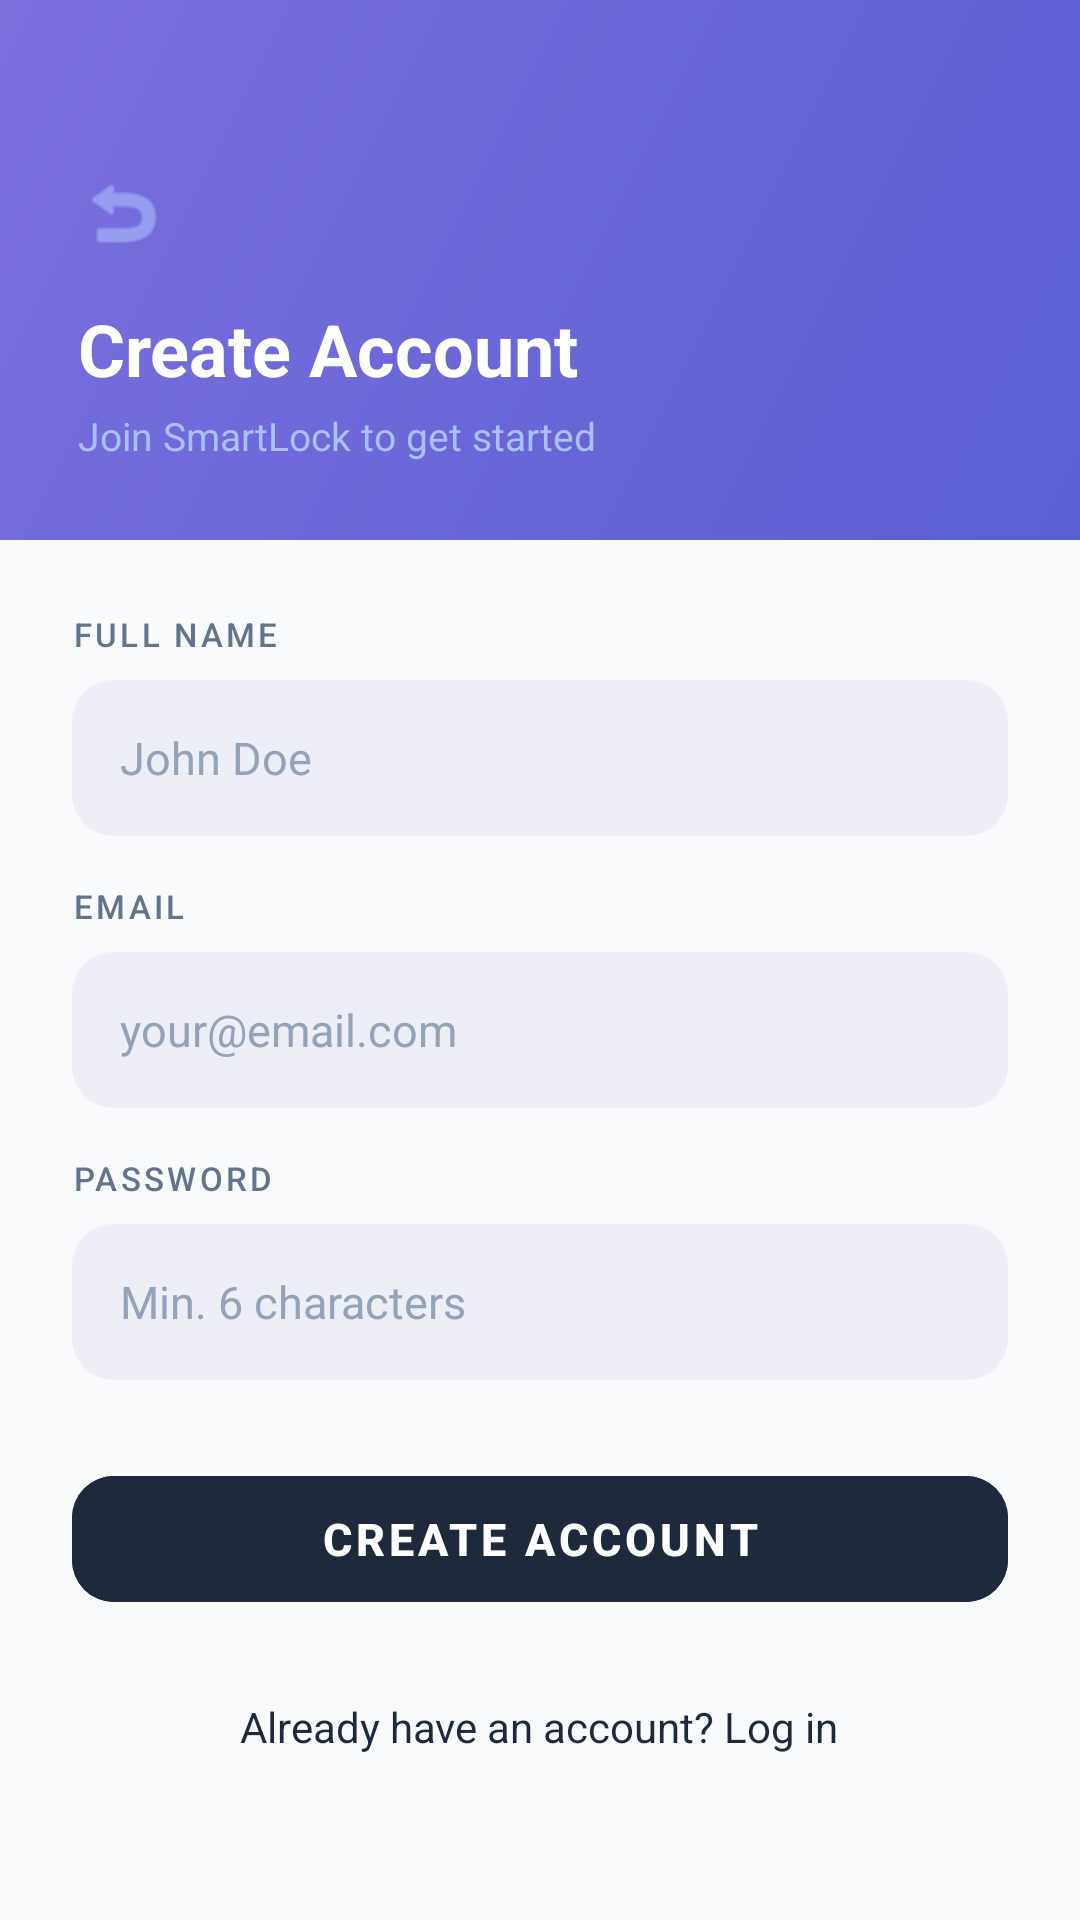

Icons on this 1080*1920 Android screen, each with its box as (x1, y1, x2, y2):
revert: (92, 185, 156, 242)
